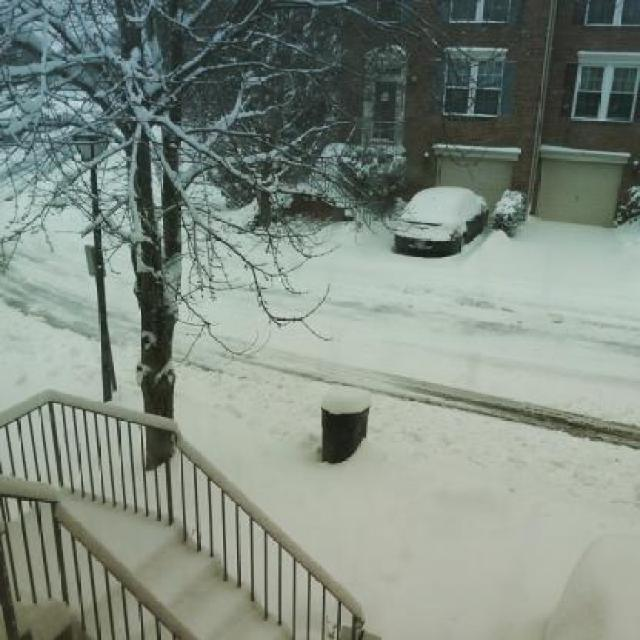stair: (97, 469, 363, 640)
